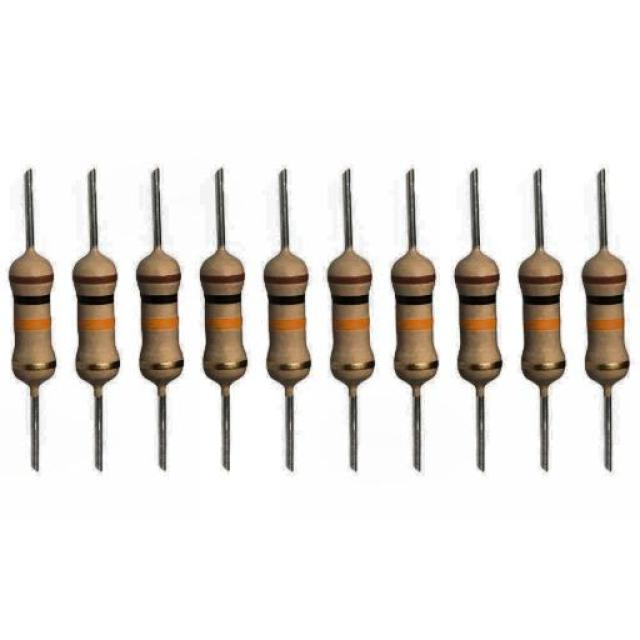Resistor: (443, 164, 516, 476), (129, 162, 195, 477), (257, 162, 323, 472), (326, 161, 390, 474), (2, 161, 65, 474), (67, 156, 127, 482), (388, 161, 450, 476), (514, 167, 574, 477), (577, 167, 637, 470), (195, 164, 252, 474)
